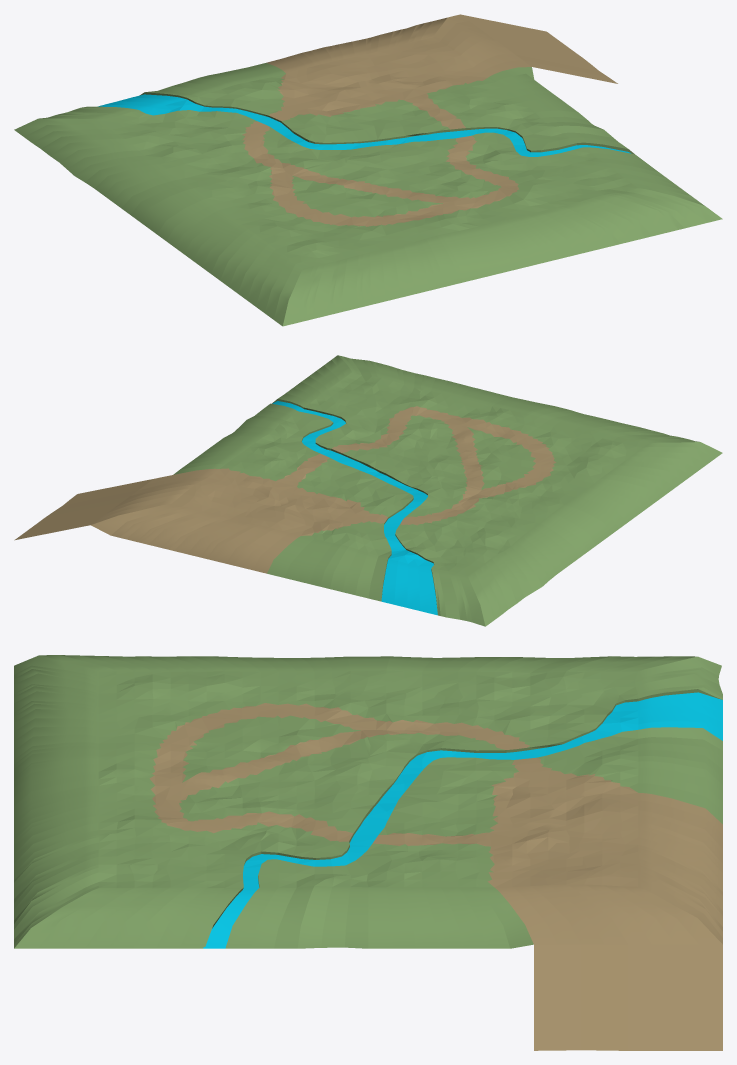
The model's file is EnvTerrain.fbx.
3 renders of one model, top to bottom at view 1: azimuth 30°, elevation 25°; view 2: azimuth 150°, elevation 25°; view 3: azimuth 270°, elevation 25°, orthographic. The views are drawn at different scales.
Visible parts, largest first — view 1: EnvTerrain; view 2: EnvTerrain; view 3: EnvTerrain.
Boxes of the visible parts, x1,y1,x2,y2 form: EnvTerrain: [14, 14, 722, 326]; EnvTerrain: [14, 355, 722, 626]; EnvTerrain: [14, 655, 722, 1050].
Bounding box in the file's own units: 7229 × 726 × 6294.
